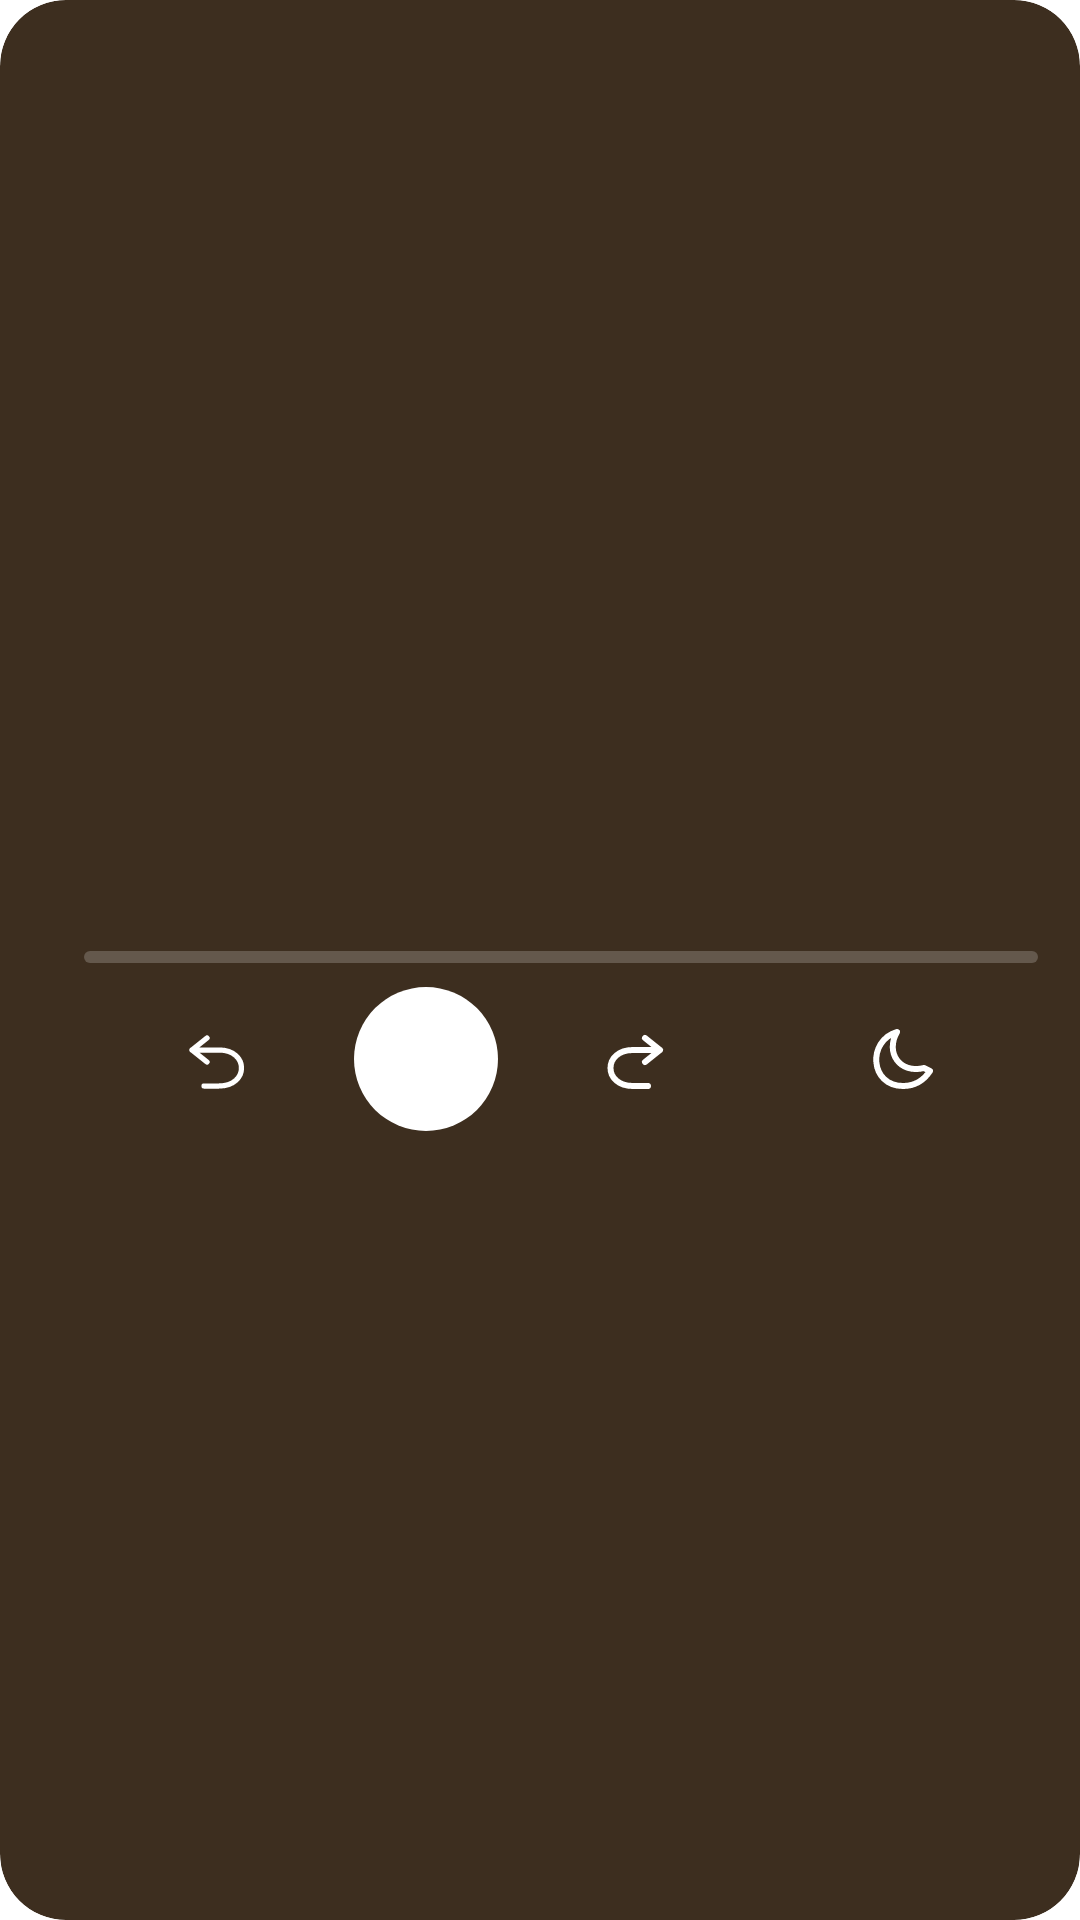

Named icons in this screenshot (1080px×1920px) and their centers, (x=x, y=y):
Forward: (x=635, y=1062)
Rewind: (x=216, y=1062)
Sleep timer, 30 minutes: (x=903, y=1059)
